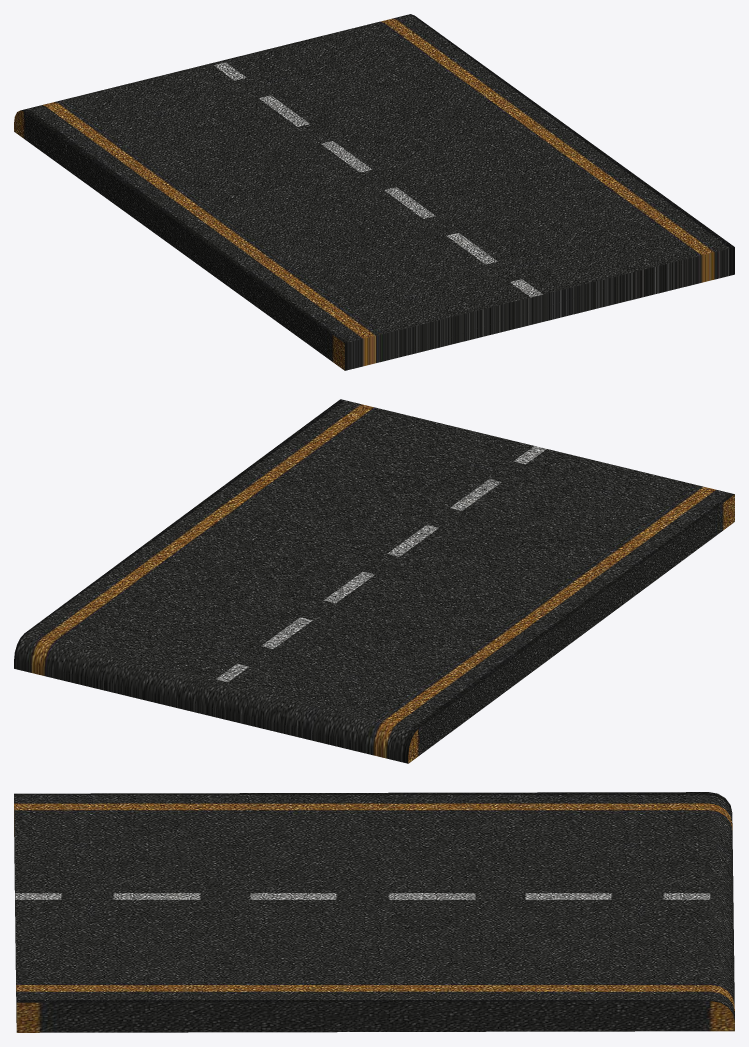
The model's file is road.fbx.
3 renders of one model, top to bottom at view 1: azimuth 30°, elevation 25°; view 2: azimuth 150°, elevation 25°; view 3: azimuth 270°, elevation 25°, orthographic. The views are drawn at different scales.
Parts seen in each view (by area): view 1: pCube2; view 2: pCube2; view 3: pCube2.
Boxes of the visible parts, x1,y1,x2,y2 form: pCube2: (14,14,734,370); pCube2: (14,399,734,763); pCube2: (14,792,734,1032).
Bounding box in the file's own units: 7.52 × 0.5011 × 10.88.
